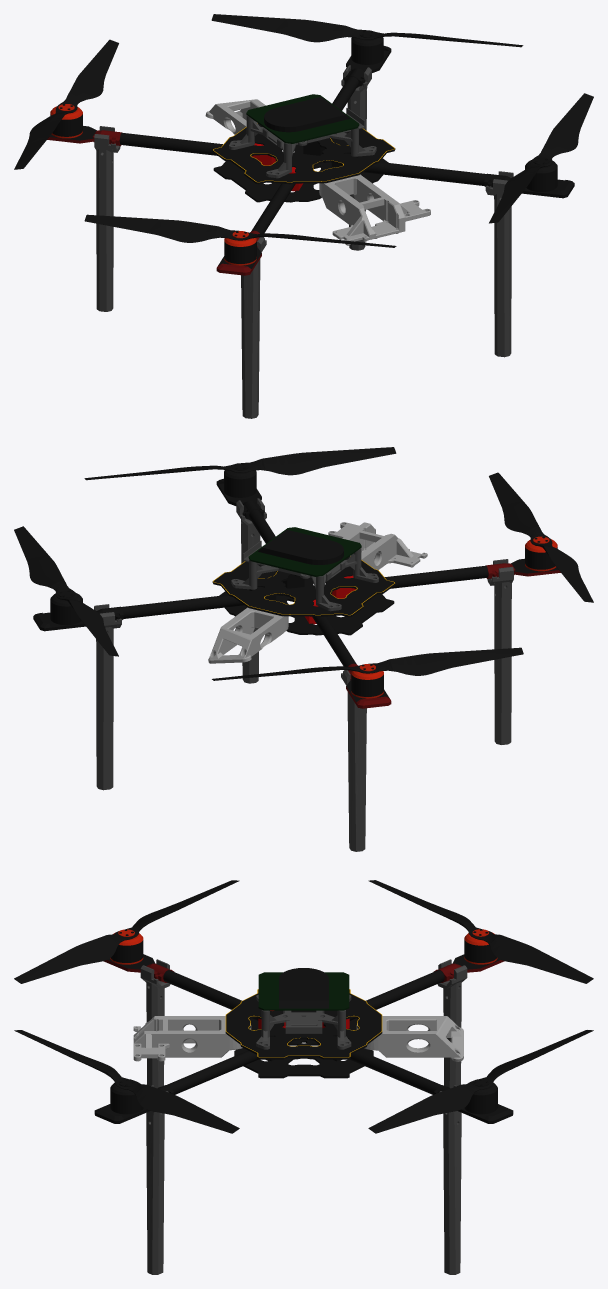
The model's file is tarotParaquedas_v2.obj.
The picture shows the model from 3 angles, top to bottom: view 1: azimuth 30°, elevation 25°; view 2: azimuth 150°, elevation 25°; view 3: azimuth 270°, elevation 25°; orthographic projection.
Parts seen in each view (by area): view 1: Object.1, Object.2, Object.4, Object.5, Object.3, Object.6; view 2: Object.1, Object.2, Object.3, Object.6, Object.4, Object.5; view 3: Object.1, Object.2, Object.3, Object.4, Object.5, Object.6.
Part boxes in pixels (<box>): Object.1: <box>47,37,574,418</box>; Object.2: <box>229,94,376,178</box>; Object.4: <box>84,214,396,247</box>; Object.5: <box>211,14,523,47</box>; Object.3: <box>14,39,118,169</box>; Object.6: <box>489,93,593,223</box>; Object.1: <box>33,470,560,851</box>; Object.2: <box>231,527,378,611</box>; Object.3: <box>212,647,523,680</box>; Object.6: <box>84,447,396,480</box>; Object.4: <box>489,472,593,602</box>; Object.5: <box>14,526,118,656</box>; Object.1: <box>94,932,513,1274</box>; Object.2: <box>256,968,351,1049</box>; Object.3: <box>368,880,593,983</box>; Object.4: <box>14,880,239,983</box>; Object.5: <box>368,1030,593,1133</box>; Object.6: <box>14,1030,239,1133</box>.
Size of the model in its own units: 719 by 294 by 695.
